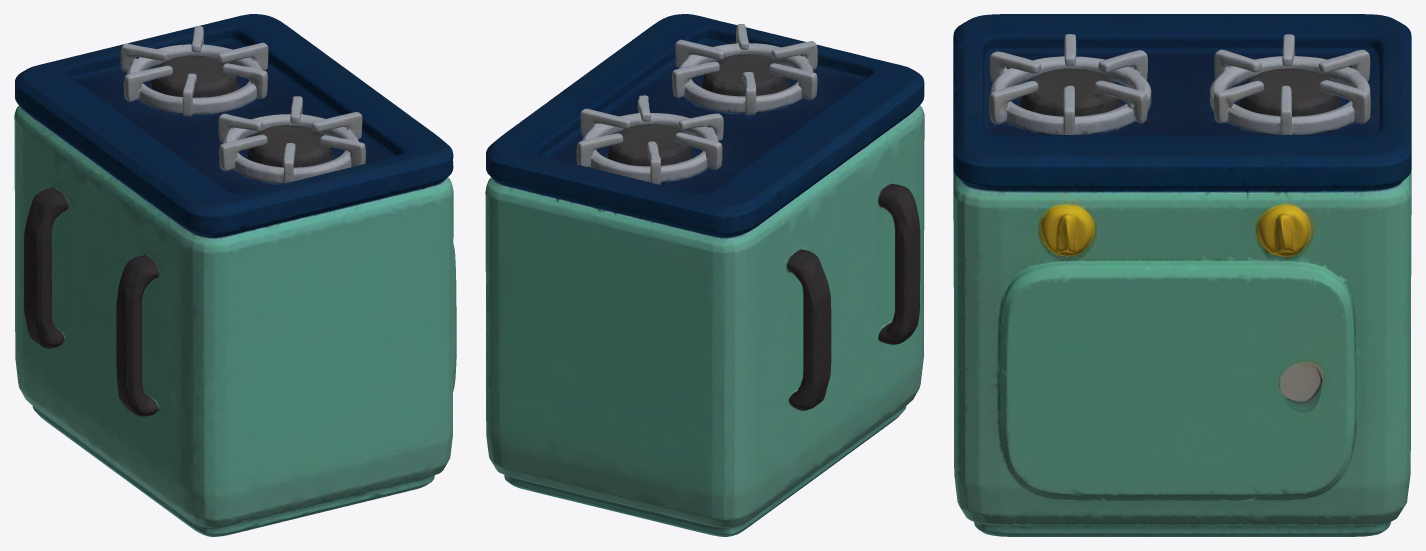
Rendered from Mod_Stove.glb.
The picture shows the model from 3 angles, left to right: view 1: azimuth 30°, elevation 25°; view 2: azimuth 150°, elevation 25°; view 3: azimuth 270°, elevation 25°; orthographic projection. The views are drawn at different scales.
Visible parts, largest first — view 1: tripo_node_d7f03df4-f9f3-4b8e-b4e8-dc7fac851bac; view 2: tripo_node_d7f03df4-f9f3-4b8e-b4e8-dc7fac851bac; view 3: tripo_node_d7f03df4-f9f3-4b8e-b4e8-dc7fac851bac.
Boxes of the visible parts, x1,y1,x2,y2 form: tripo_node_d7f03df4-f9f3-4b8e-b4e8-dc7fac851bac: (14,14,456,536); tripo_node_d7f03df4-f9f3-4b8e-b4e8-dc7fac851bac: (485,14,924,536); tripo_node_d7f03df4-f9f3-4b8e-b4e8-dc7fac851bac: (953,14,1411,536).
Size of the model in its own units: 0.9217 by 0.9758 by 1.
1 material, 1 textured.
